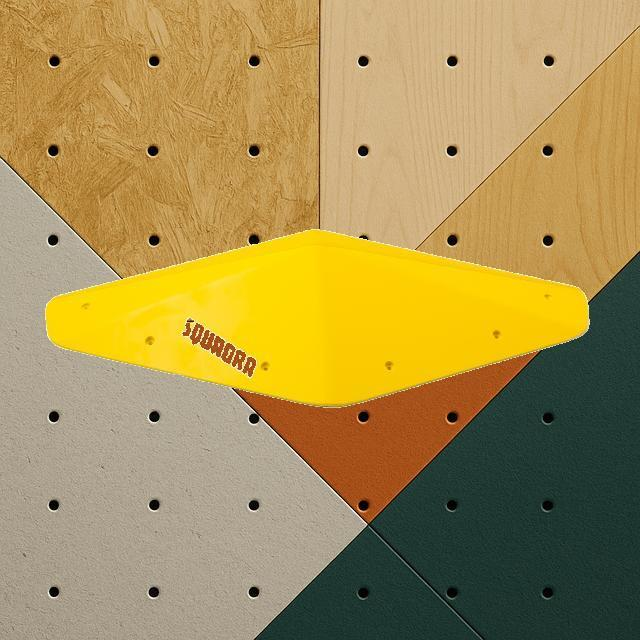Volume: (48, 227, 590, 407)
